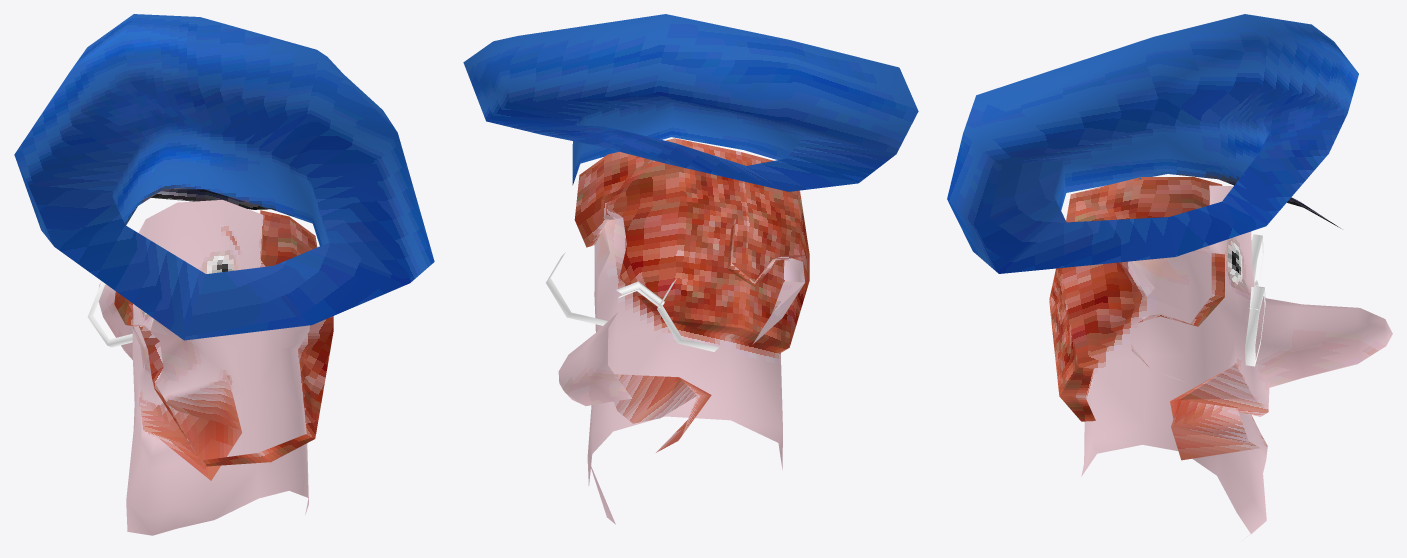
Rendered from ps2_save-icons_postmanpat.glb.
3 renders of one model, left to right at view 1: azimuth 30°, elevation 25°; view 2: azimuth 150°, elevation 25°; view 3: azimuth 270°, elevation 25°, orthographic. The views are drawn at different scales.
Visible parts, largest first — view 1: VIEW.ICO; view 2: VIEW.ICO; view 3: VIEW.ICO.
Part boxes in pixels (<box>): VIEW.ICO: <box>14,14,434,535</box>; VIEW.ICO: <box>463,14,918,524</box>; VIEW.ICO: <box>947,14,1392,540</box>.
Size of the model in its own units: 2.64 by 3.39 by 2.79.
Materials: 1 (1 with a texture image).
